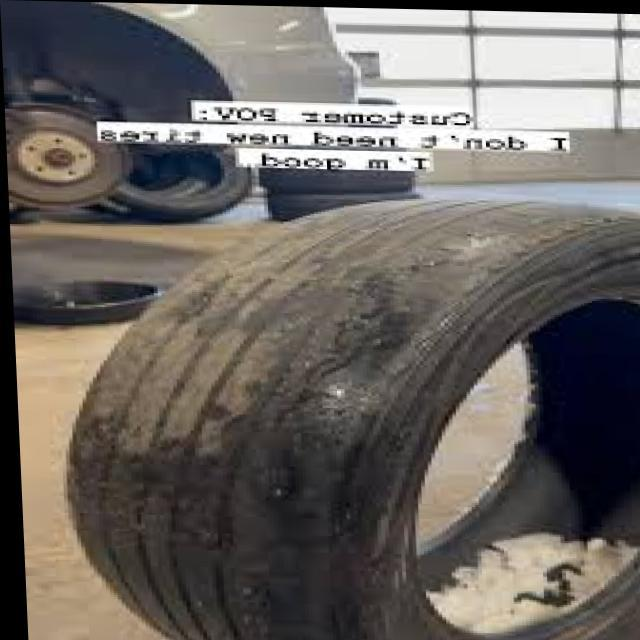Flat spots: (115, 321, 315, 573), (225, 240, 401, 312)
